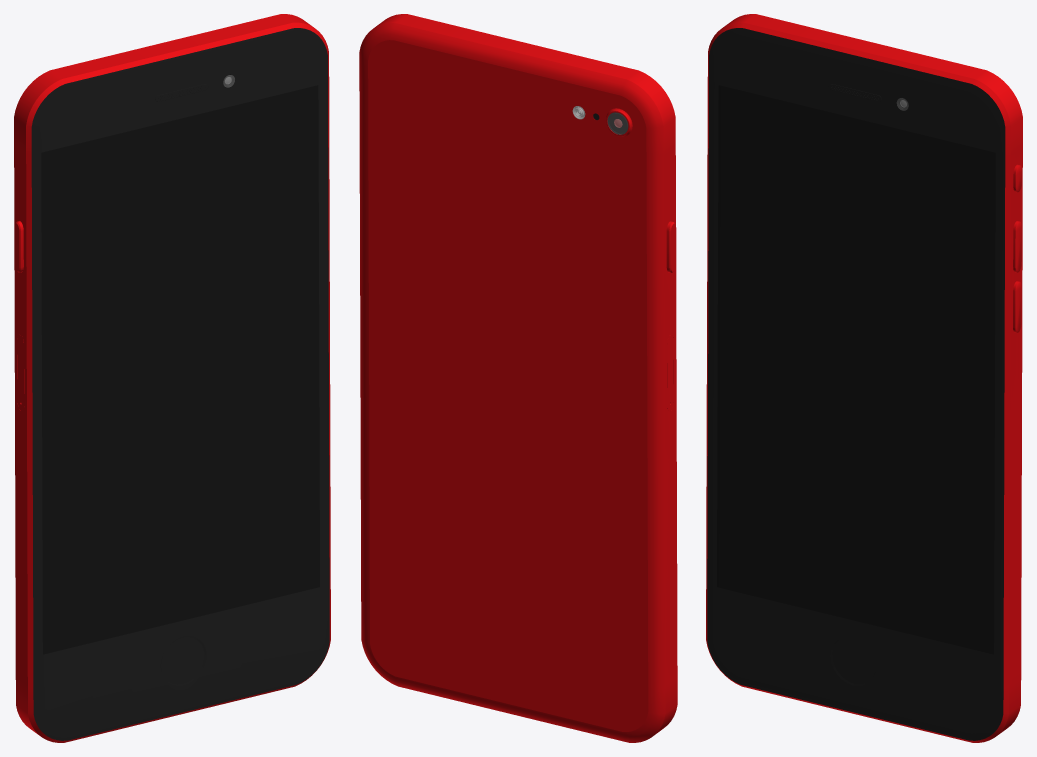
The model's file is mobile.fbx.
The picture shows the model from 3 angles, left to right: view 1: azimuth 30°, elevation 25°; view 2: azimuth 150°, elevation 25°; view 3: azimuth 330°, elevation 25°; orthographic projection.
Visible parts, largest first — view 1: Mobile; view 2: Mobile; view 3: Mobile.
Boxes of the visible parts, x1=… form: Mobile: x1=14, y1=14, x2=330, y2=742; Mobile: x1=359, y1=14, x2=677, y2=742; Mobile: x1=706, y1=14, x2=1022, y2=742.
Bounding box in the file's own units: 6.73 × 13.77 × 0.905.
